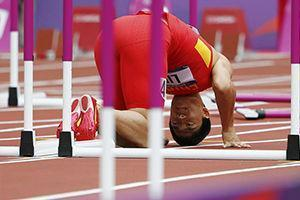Fall-Detected: (75, 1, 256, 146)
